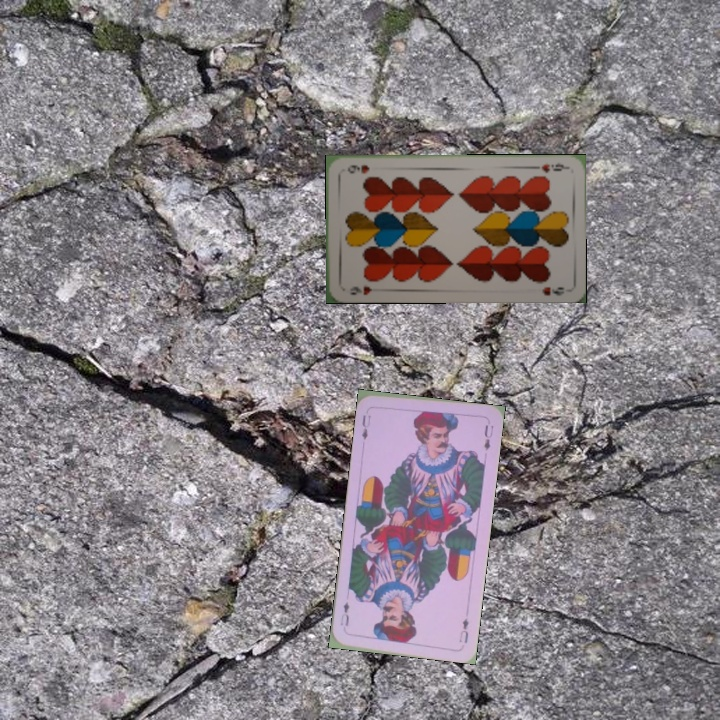EU: (455, 614, 471, 646), (358, 411, 373, 442)
H9: (537, 159, 569, 175), (346, 282, 375, 297)
